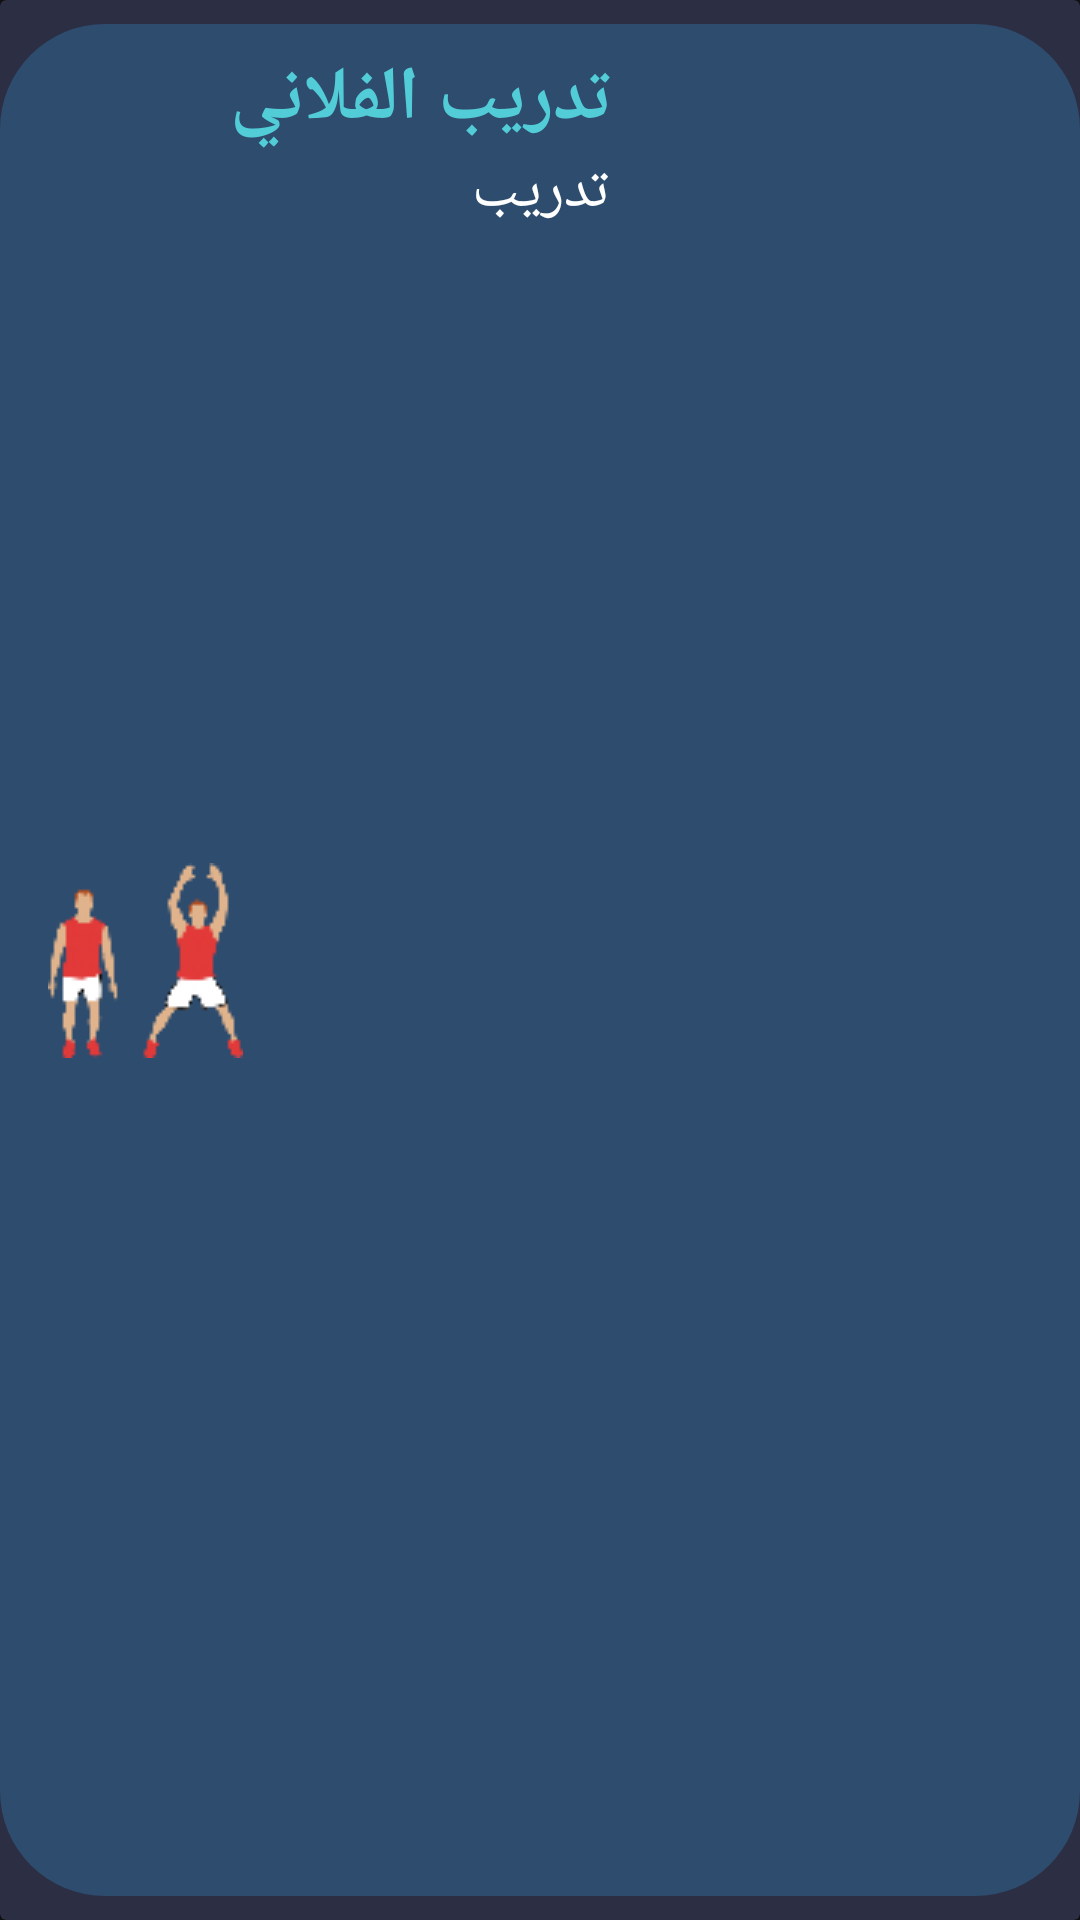

Point at icon controls on the screen. Image size 1080 × 1920, points as (x=x, y=y).
jacks: (x=145, y=960)
